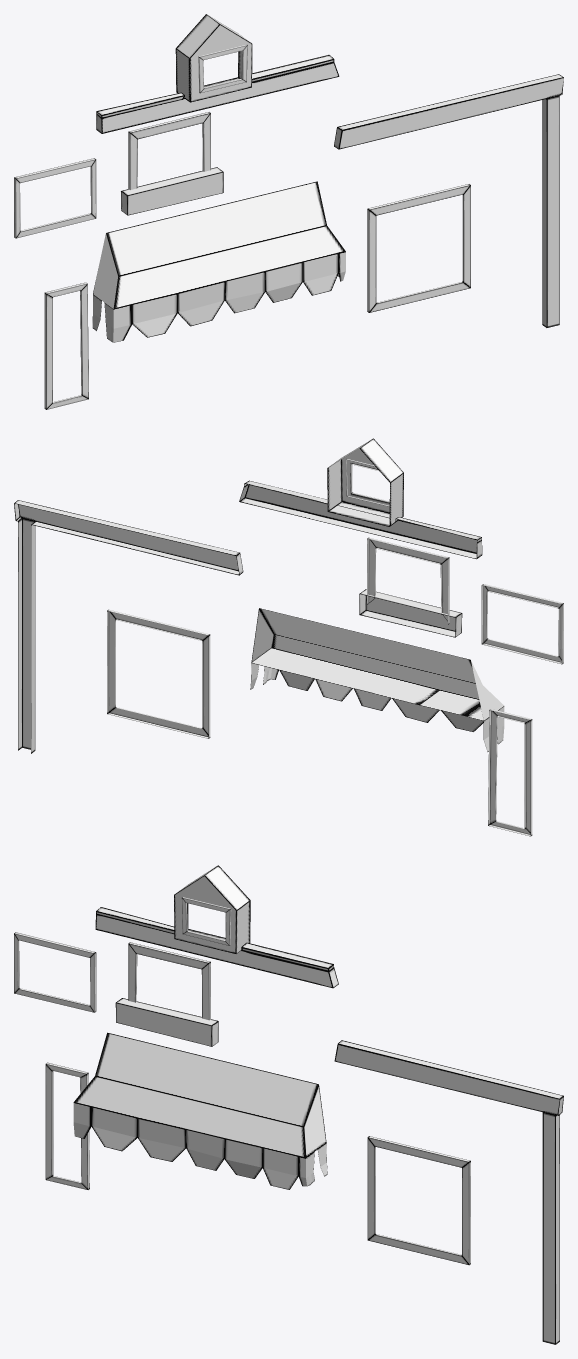
The model's file is BackGround2.fbx.
3 renders of one model, top to bottom at view 1: azimuth 30°, elevation 25°; view 2: azimuth 150°, elevation 25°; view 3: azimuth 330°, elevation 25°, orthographic.
Visible parts, largest first — view 1: Cube, Cube.002, Cube.001, Cube.003, Cube.006, Cube.007, Cube.004, Cube.005; view 2: Cube, Cube.002, Cube.001, Cube.003, Cube.006, Cube.007, Cube.004; view 3: Cube, Cube.002, Cube.001, Cube.003, Cube.006, Cube.007, Cube.004, Cube.005.
Boxes of the visible parts, bbox=[...] form: Cube: bbox=[92, 181, 345, 342]; Cube.002: bbox=[96, 54, 563, 327]; Cube.001: bbox=[121, 14, 252, 215]; Cube.003: bbox=[367, 184, 470, 312]; Cube.006: bbox=[44, 282, 88, 409]; Cube.007: bbox=[14, 158, 96, 238]; Cube.004: bbox=[128, 112, 210, 189]; Cube.005: bbox=[198, 44, 247, 93]; Cube: bbox=[250, 608, 504, 751]; Cube.002: bbox=[14, 480, 482, 753]; Cube.001: bbox=[327, 438, 462, 637]; Cube.003: bbox=[107, 609, 210, 738]; Cube.006: bbox=[488, 709, 532, 836]; Cube.007: bbox=[481, 584, 563, 664]; Cube.004: bbox=[367, 537, 449, 624]; Cube: bbox=[73, 1032, 327, 1189]; Cube.002: bbox=[95, 907, 563, 1344]; Cube.001: bbox=[115, 865, 250, 1046]; Cube.003: bbox=[367, 1136, 470, 1265]; Cube.006: bbox=[45, 1062, 89, 1189]; Cube.007: bbox=[14, 932, 96, 1012]; Cube.004: bbox=[128, 942, 210, 1020]; Cube.005: bbox=[181, 897, 231, 945].
Size of the model in its own units: 1605 by 1092 by 140.
